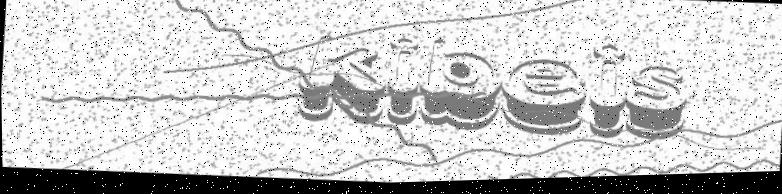b: (416, 28, 508, 142)
e: (492, 56, 595, 154)
i: (581, 36, 634, 150), (383, 27, 427, 135)
k: (294, 28, 391, 139)
s: (616, 61, 693, 151)
